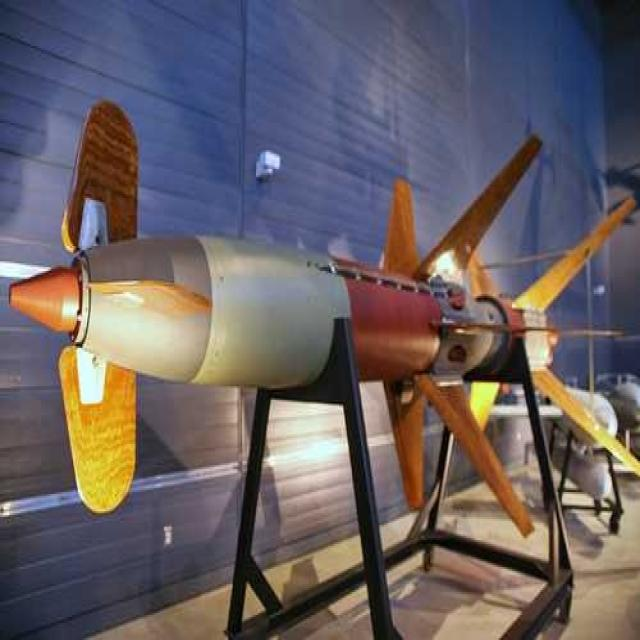missile: (11, 101, 632, 528)
